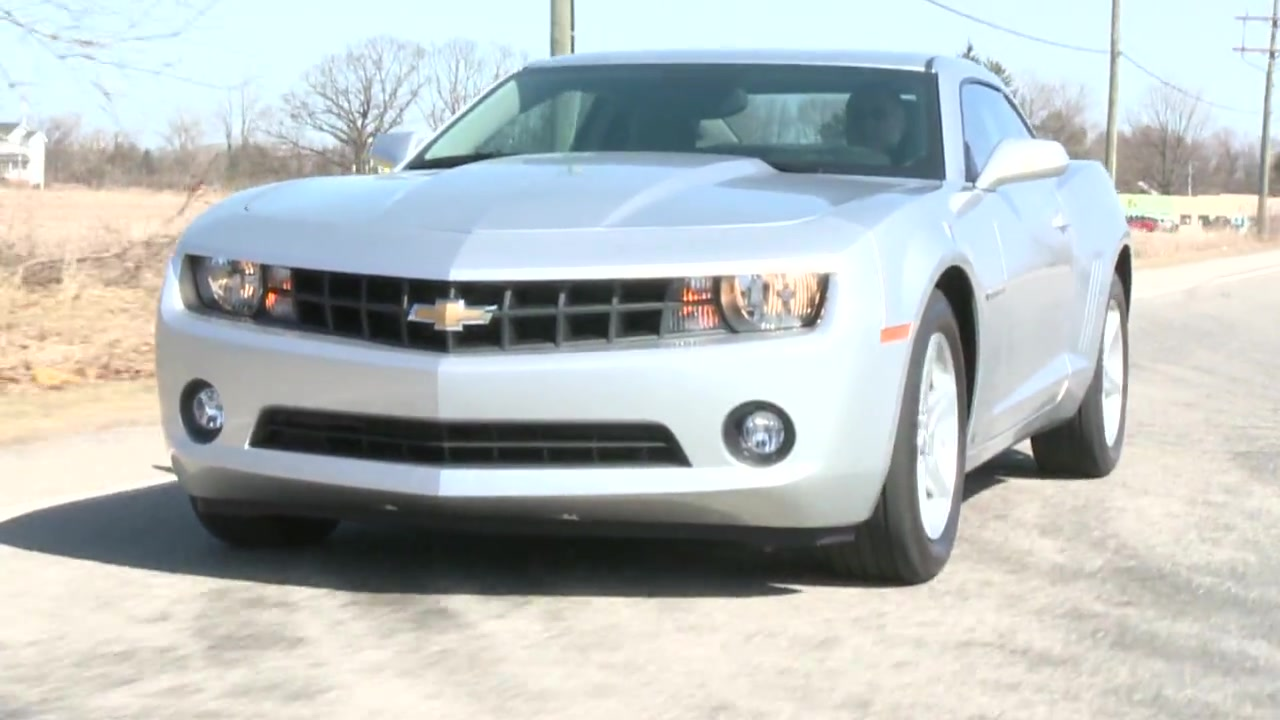car: (156, 46, 1134, 590)
